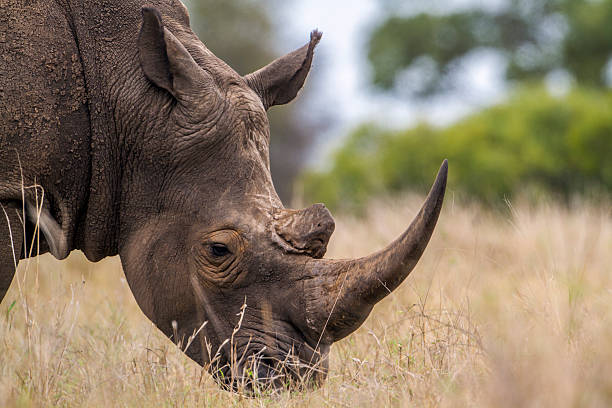rhino: (118, 6, 462, 408)
